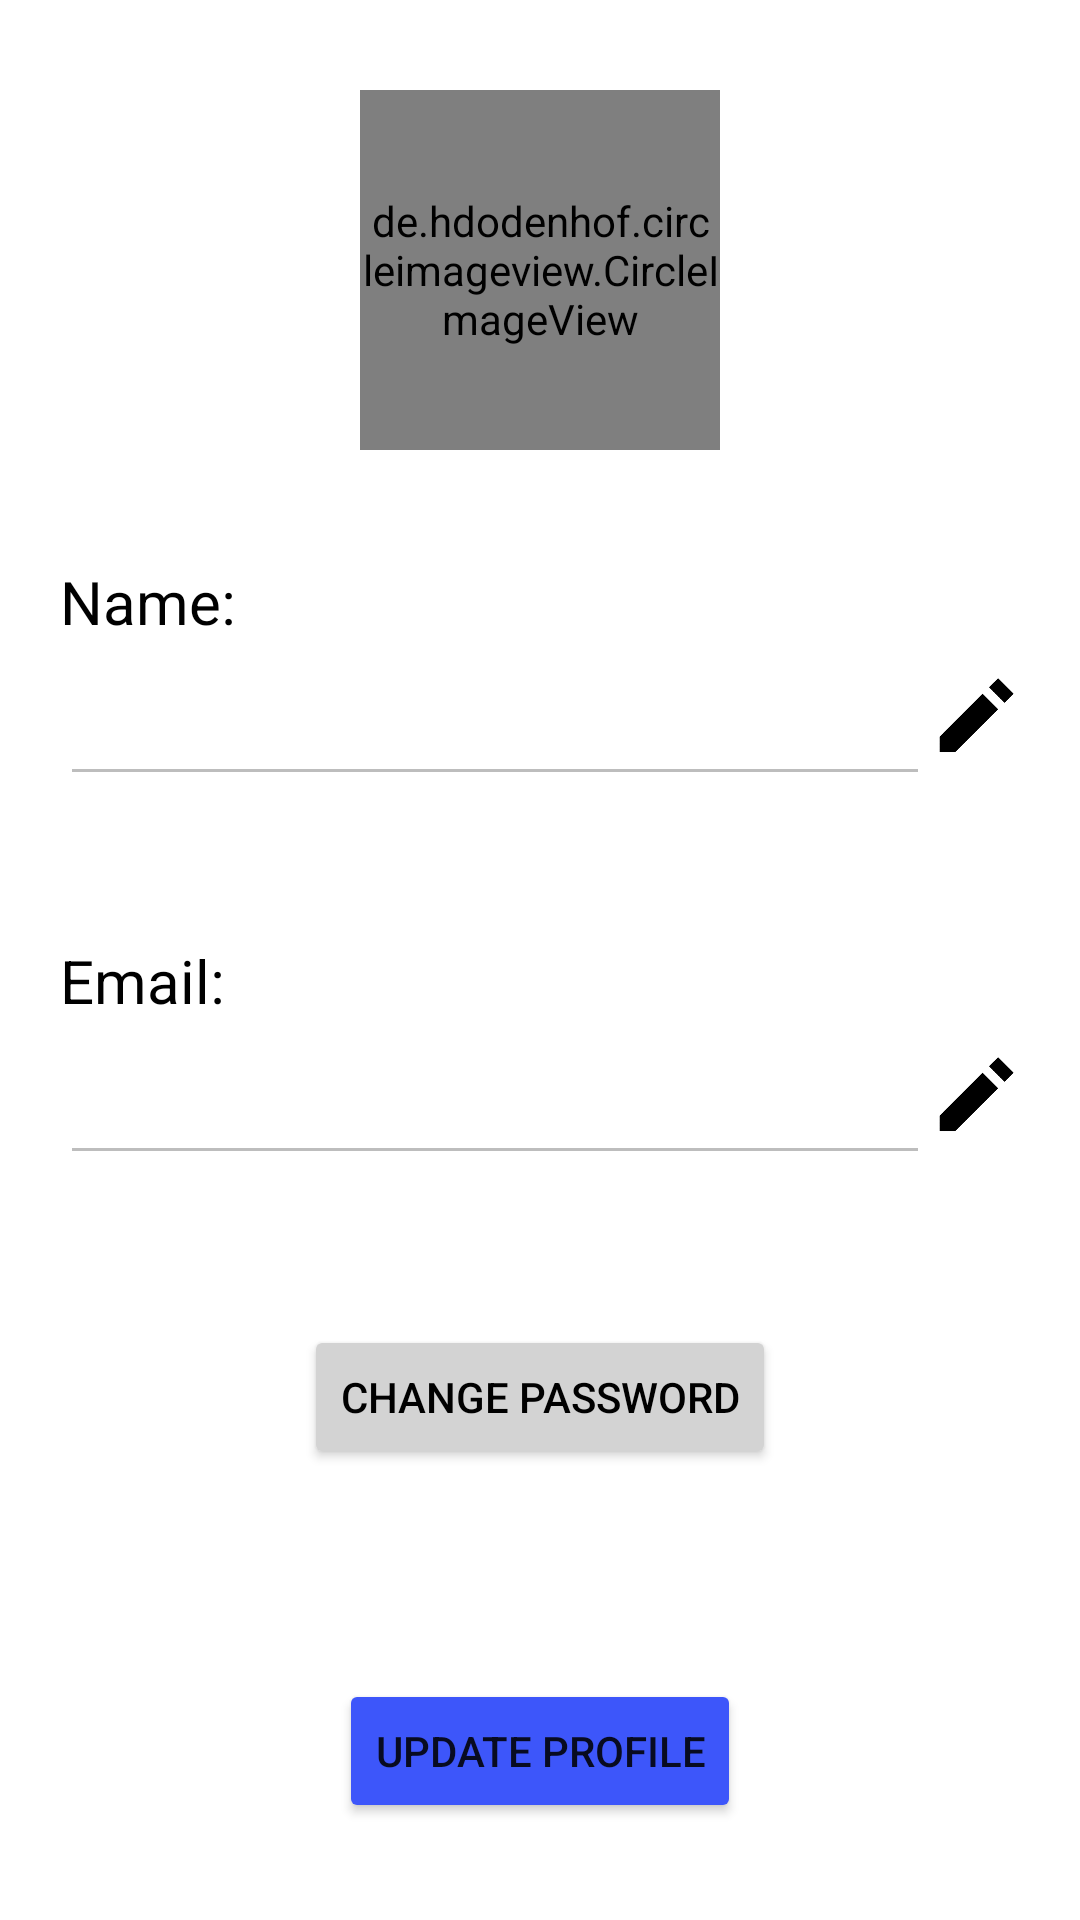

Point at icon controls on the screen. Image size 1080px x 1920px, points as [x,y].
edit: [976,715], [976,1094]
